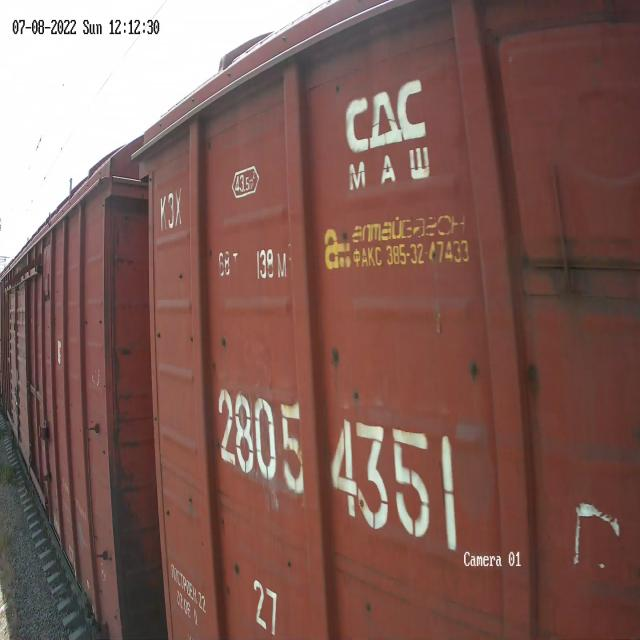boxcar: (128, 0, 640, 640), (0, 122, 153, 639)
